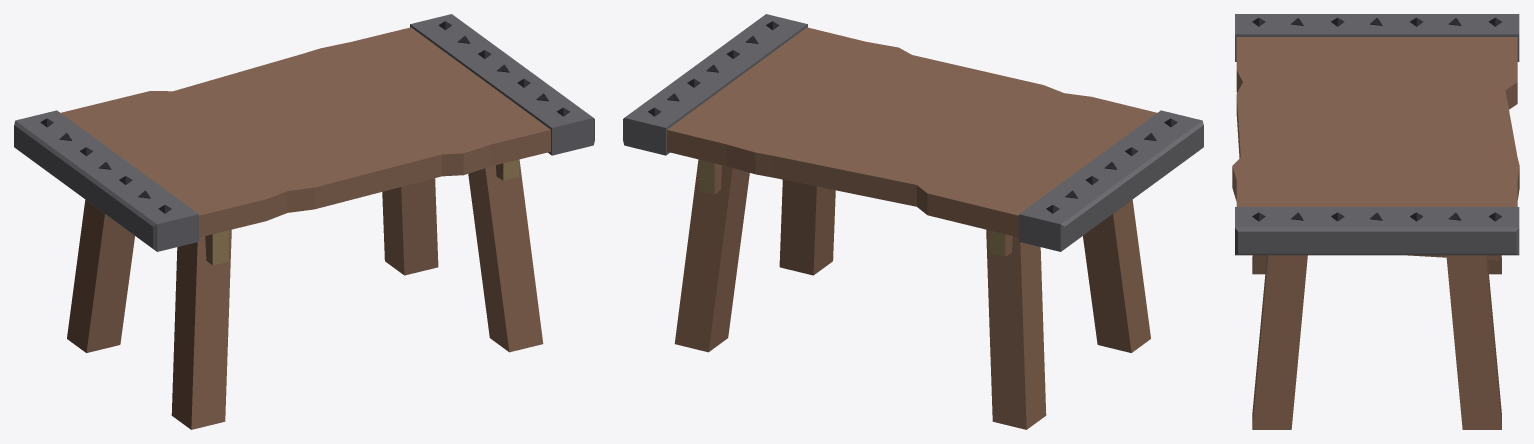
The model's file is Table_1.fbx.
The picture shows the model from 3 angles, left to right: view 1: azimuth 30°, elevation 25°; view 2: azimuth 150°, elevation 25°; view 3: azimuth 270°, elevation 25°; orthographic projection.
Parts seen in each view (by area): view 1: pCube792; view 2: pCube792; view 3: pCube792.
Part boxes in pixels (x1,y1,x2,y2): pCube792: (14, 14, 594, 429); pCube792: (623, 14, 1203, 429); pCube792: (1232, 14, 1519, 429).
Bounding box in the file's own units: 195 × 96.16 × 109.
